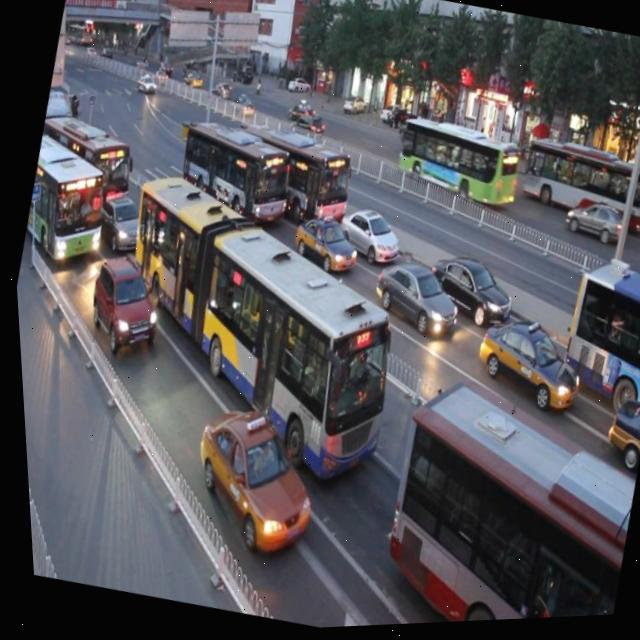car: (171, 395, 325, 562), (463, 303, 589, 421), (73, 250, 168, 364), (361, 245, 464, 342), (419, 241, 519, 330), (282, 200, 362, 278), (328, 191, 404, 269), (87, 191, 150, 260), (591, 391, 640, 475)
van: (80, 151, 429, 495), (354, 369, 640, 628), (163, 103, 301, 237), (224, 107, 362, 234), (13, 130, 120, 271), (546, 261, 640, 418), (25, 99, 141, 216)
